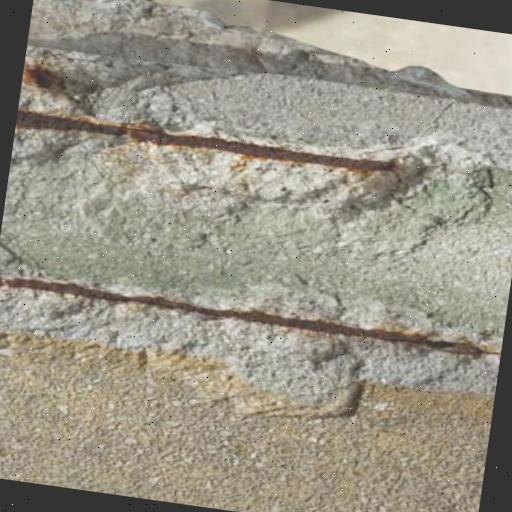spalling: (0, 233, 498, 442), (11, 69, 504, 259)
